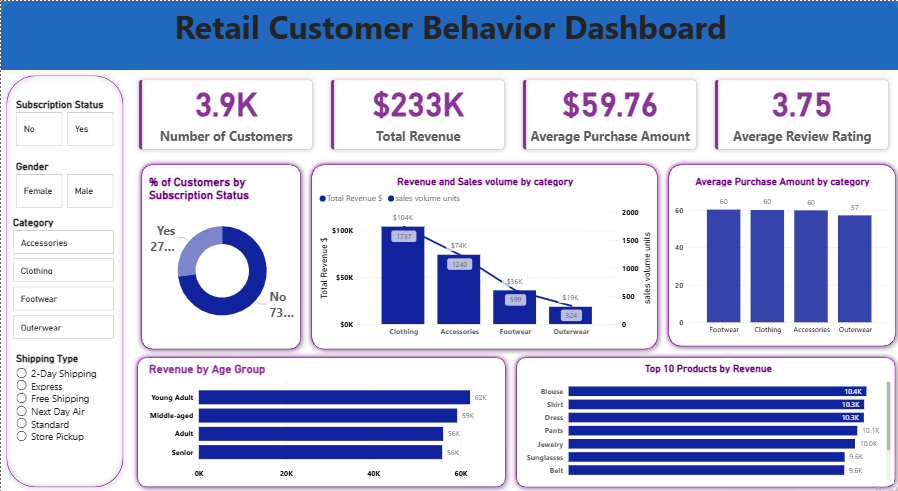

The dashboard page shown, as its layout file describes it:
{"tool":"powerbi","page":{"name":"Dashboard Page","canvas":[1500,820],"ordinal":0},"visuals":[{"type":"cardVisual","fields":{"Data":["public customer.Number of Customers","public customer.Totol Revenue","public customer.Average Purchase Amount","public customer.Average Review Rating"]},"box":[213.2,114.8,1285.8,149.2],"z":0},{"type":"shape","box":[0,0,1499.4,115.3],"z":1000},{"type":"textbox","box":[0,0,1499,114.8],"z":2000},{"type":"shape","box":[218.3,585.6,631.7,234.2],"z":2500,"group":"g1"},{"type":"shape","box":[224.7,264,283.7,326.4],"z":3000},{"type":"donutChart","title":"% of Customers by Subscription Status","fields":{"Category":["public customer.subscription_status"],"Y":["CountNonNull(public customer.customer_id)"]},"box":[241.1,290.3,254.2,275.5],"z":4000},{"type":"shape","box":[1103.7,264,396.9,321.4],"z":5000},{"type":"shape","box":[508.4,264,595.3,326.4],"z":6000},{"type":"shape","box":[0,115.3,212.9,704.5],"z":7000},{"type":"advancedSlicerVisual","fields":{"Values":["public customer.subscription_status"]},"box":[19.5,161.5,173.9,85.2],"z":8000},{"type":"advancedSlicerVisual","fields":{"Values":["public customer.gender"]},"box":[19.5,264.4,173.9,85.2],"z":9000},{"type":"advancedSlicerVisual","fields":{"Values":["public customer.category"]},"box":[14.8,359.2,178.8,209.9],"z":10000},{"type":"listSlicer","fields":{"Values":["public customer.shipping_type"]},"box":[19.7,585.5,168.9,203.4],"z":11000},{"type":"shape","box":[849.5,585.5,649.4,234.5],"z":12000},{"type":"group","id":"g1","title":"Group 1","box":[218.3,585.6,631.7,234.2],"z":13000},{"type":"lineClusteredColumnComboChart","title":" Revenue and Sales volume by category","fields":{"Category":["public customer.category"],"Y":["public customer.Totol Revenue"],"Y2":["public customer.sales volume"]},"box":[524.8,290.3,564.2,278.8],"z":14000},{"type":"columnChart","fields":{"Category":["public customer.category"],"Y":["public customer.Average Purchase Amount"]},"box":[1118.5,290.3,369,275.5],"z":15000},{"type":"clusteredBarChart","title":"Top 10 Products by Revenue","fields":{"Y":["public customer.Total Revenue"],"Category":["public customer.item_purchased"]},"box":[869.2,601.9,618.3,203.4],"z":16000},{"type":"clusteredBarChart","title":"Revenue by Age Group","fields":{"Y":["Sum(public customer.purchase_amount)"],"Category":["public customer.age_group"]},"box":[241.4,601.6,585.6,204.1],"z":17500,"group":"g1"}]}

Visuals, with their boxes in screenshot pixels (x1, y1, x2, y2), scaled from the page's 1500x820 canvas onto the 898x491 screenshot:
cardVisual - public customer.Number of Customers x public customer.Totol Revenue: locate(128, 69, 897, 158)
shape: locate(0, 0, 897, 69)
textbox: locate(0, 0, 897, 69)
shape: locate(131, 351, 509, 490)
shape: locate(135, 158, 304, 354)
"% of Customers by Subscription Status" donutChart: locate(144, 174, 297, 339)
shape: locate(661, 158, 897, 351)
shape: locate(304, 158, 661, 354)
shape: locate(0, 69, 127, 490)
advancedSlicerVisual - public customer.subscription_status: locate(12, 97, 116, 148)
advancedSlicerVisual - public customer.gender: locate(12, 158, 116, 209)
advancedSlicerVisual - public customer.category: locate(9, 215, 116, 341)
listSlicer - public customer.shipping_type: locate(12, 351, 113, 472)
shape: locate(509, 351, 897, 490)
"Group 1" group: locate(131, 351, 509, 490)
" Revenue and Sales volume by category" lineClusteredColumnComboChart: locate(314, 174, 652, 341)
columnChart - public customer.category x public customer.Average Purchase Amount: locate(670, 174, 891, 339)
"Top 10 Products by Revenue" clusteredBarChart: locate(520, 360, 891, 482)
"Revenue by Age Group" clusteredBarChart: locate(145, 360, 495, 482)
